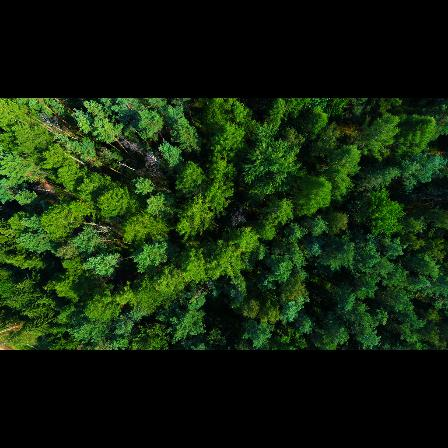Dead: (80, 215, 115, 237), (35, 112, 64, 133), (227, 206, 247, 225), (145, 149, 158, 173)
